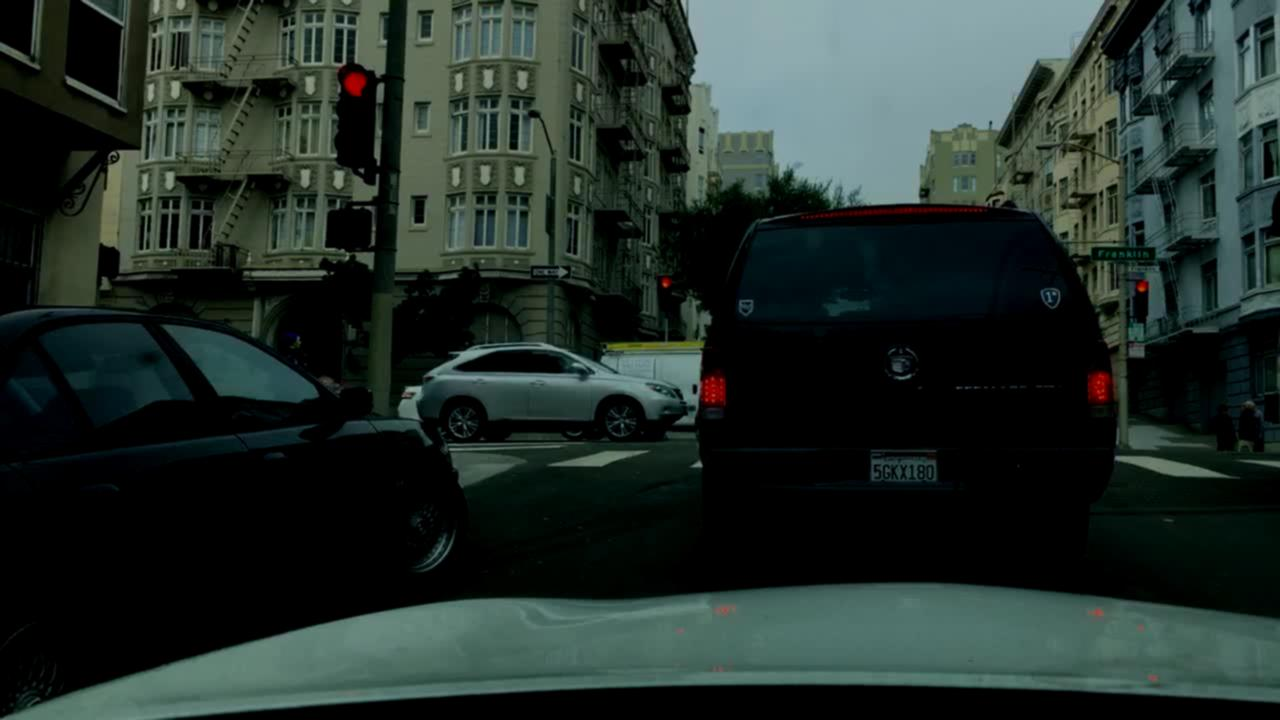cadillac: (872, 343, 931, 389)
